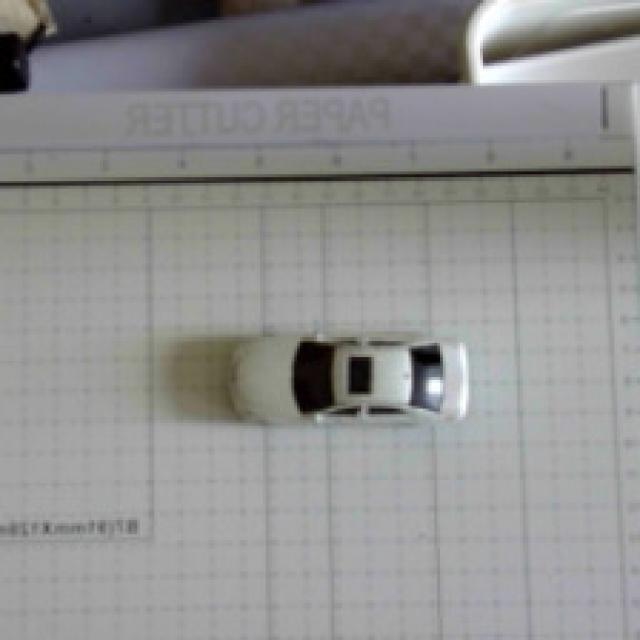Grey Car: (193, 316, 502, 468)
